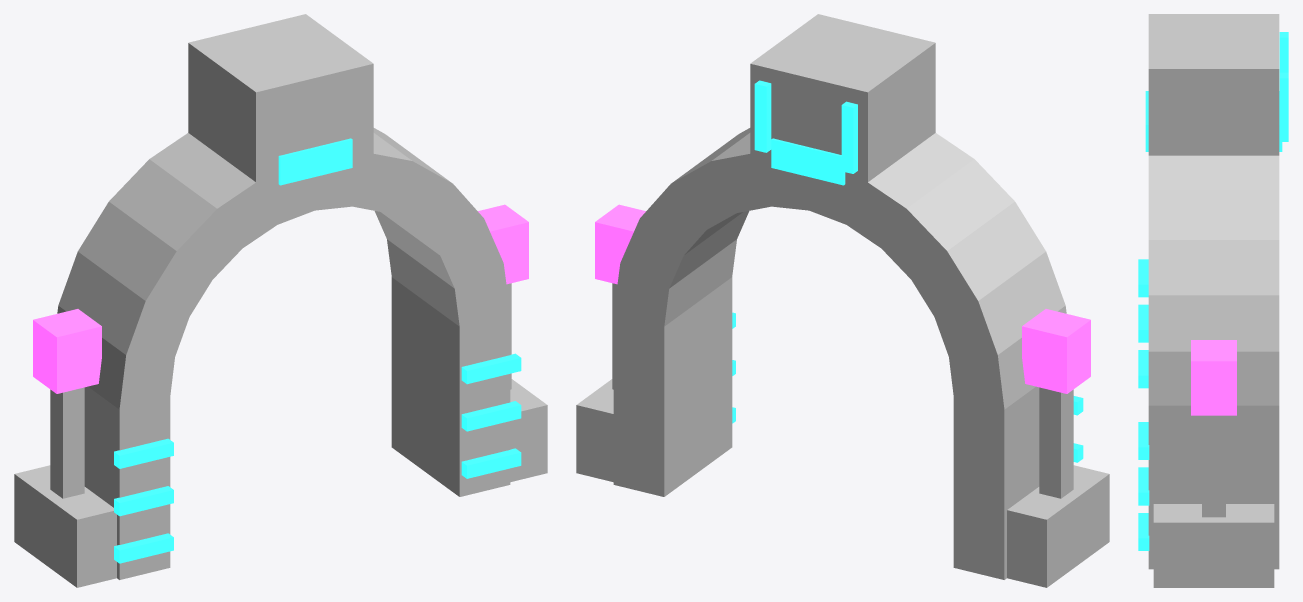
The picture shows the model from 3 angles, left to right: view 1: azimuth 30°, elevation 25°; view 2: azimuth 150°, elevation 25°; view 3: azimuth 270°, elevation 25°; orthographic projection. The views are drawn at different scales.
Visible parts, largest first — view 1: Neon_WindmillBody_Showcase; view 2: Neon_WindmillBody_Showcase; view 3: Neon_WindmillBody_Showcase.
Part boxes in pixels (x1,y1,x2,y2): Neon_WindmillBody_Showcase: (14, 14, 547, 587); Neon_WindmillBody_Showcase: (576, 14, 1109, 587); Neon_WindmillBody_Showcase: (1138, 14, 1288, 587).
Bounding box in the file's own units: 2.61 × 2.4 × 0.75.
